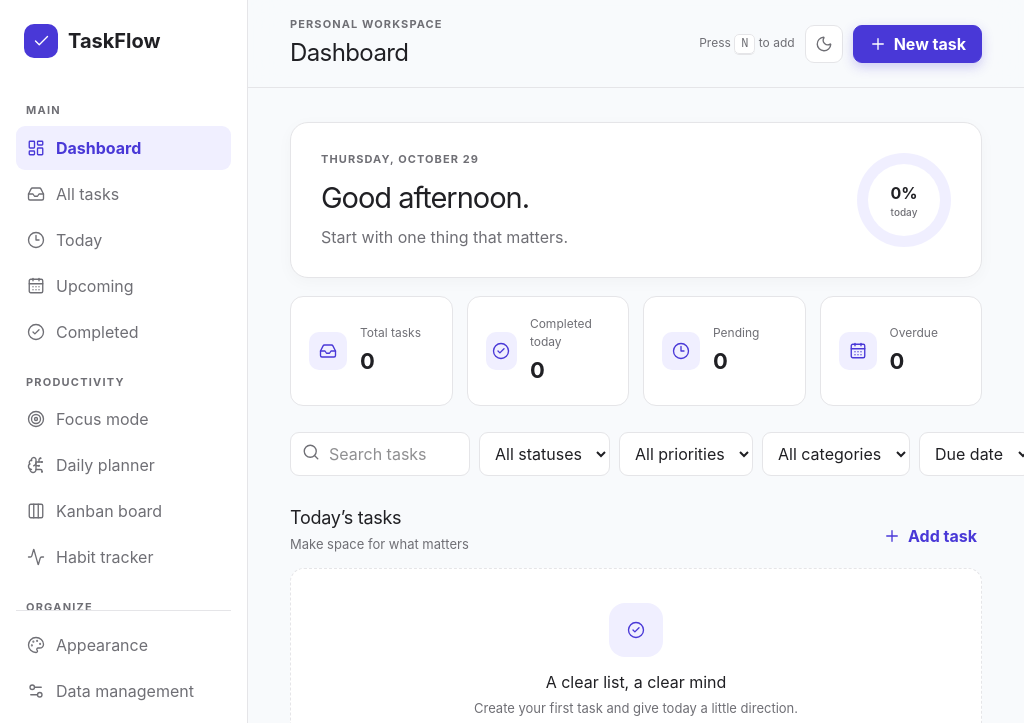
Test case: TaskFlow experience › new productivity pages are reachable from primary navigation
Click the button "Focus mode".
click(124, 419)  # box [16, 397, 231, 441]
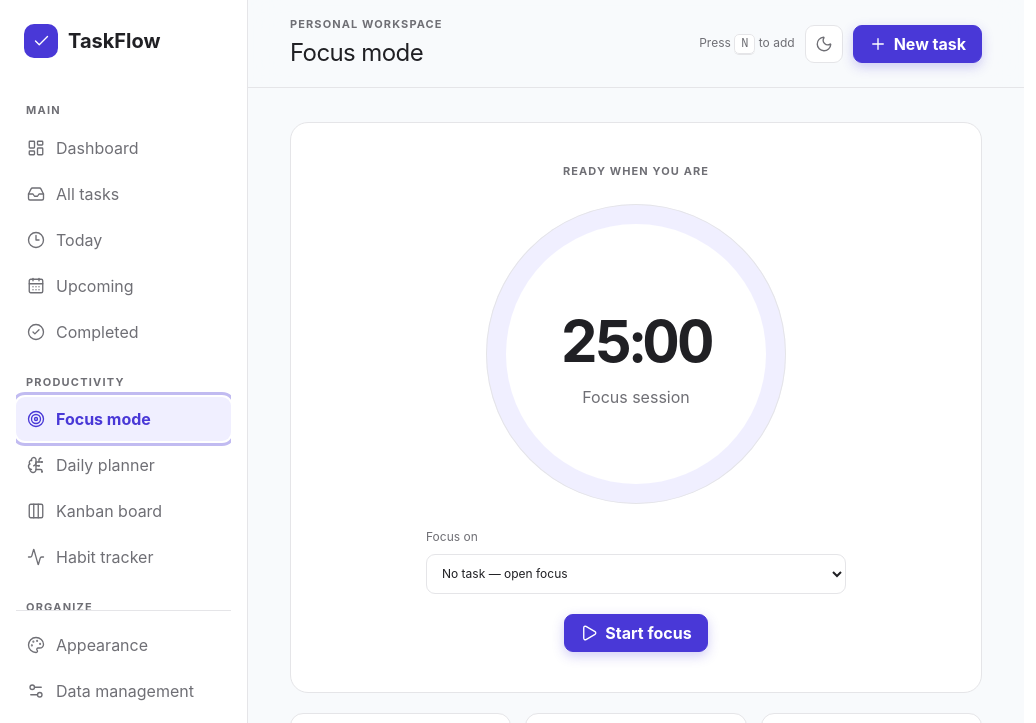
Check: the heading "Focus mode" is shown, box [290, 35, 443, 71]
Click the button "Daily planner".
click(124, 465)  # box [16, 443, 231, 487]
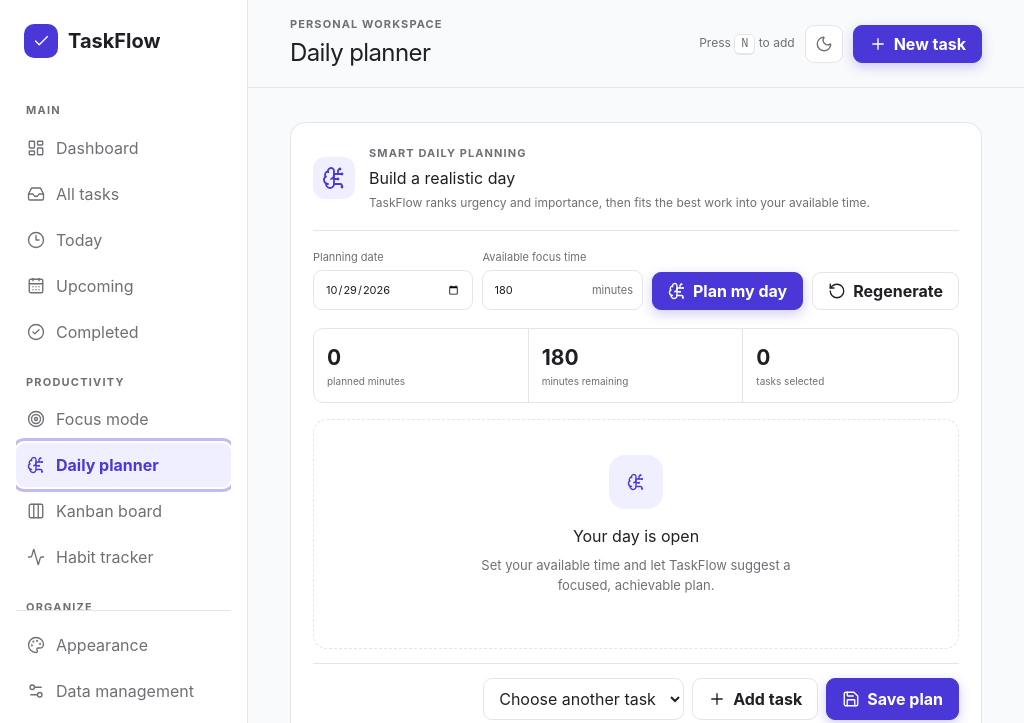
Check: the heading "Daily planner" is shown, box [290, 35, 443, 71]
Click the button "Kanban board".
click(124, 511)  # box [16, 489, 231, 533]
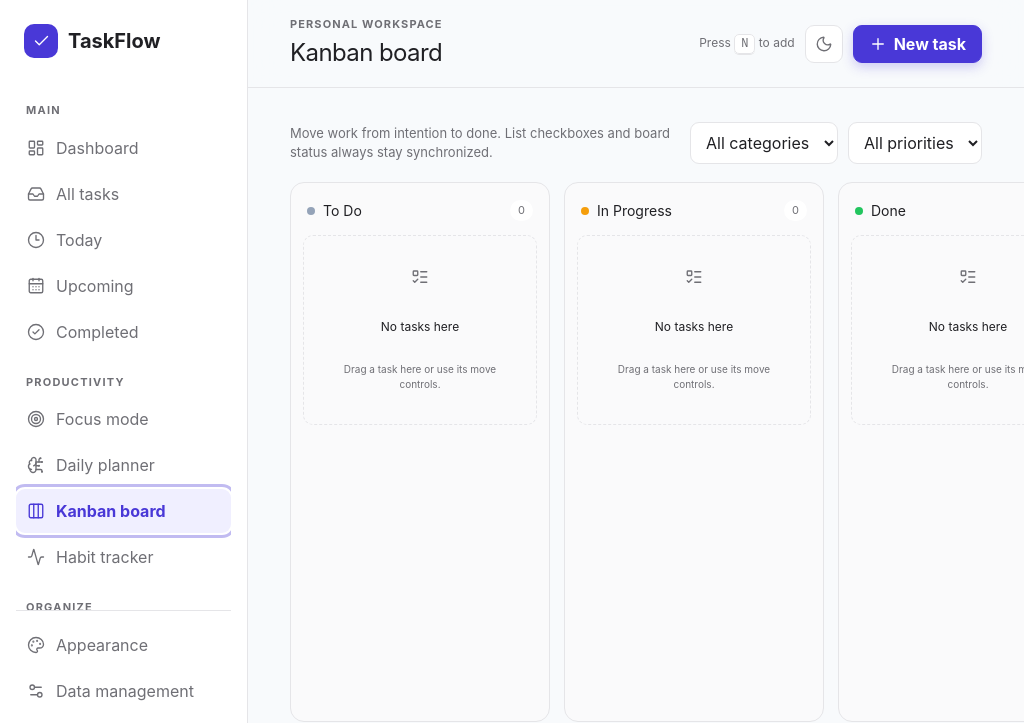
Check: the heading "Kanban board" is shown, box [290, 35, 443, 71]
Click the button "Habit tracker".
click(124, 557)  # box [16, 535, 231, 579]
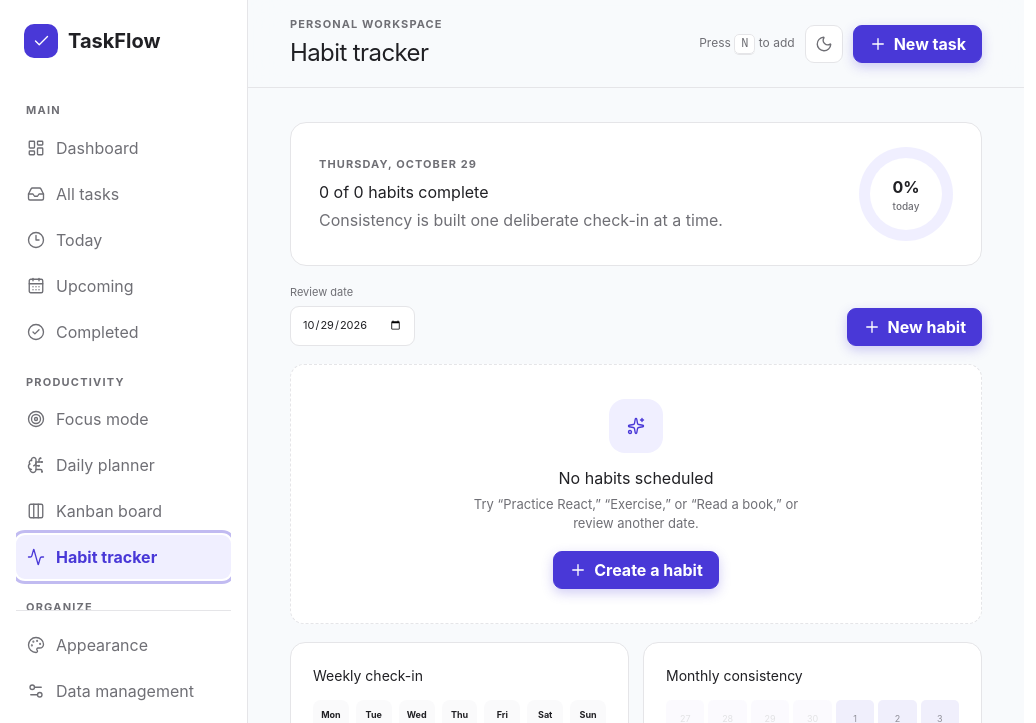
Check: the heading "Habit tracker" is shown, box [290, 35, 443, 71]
